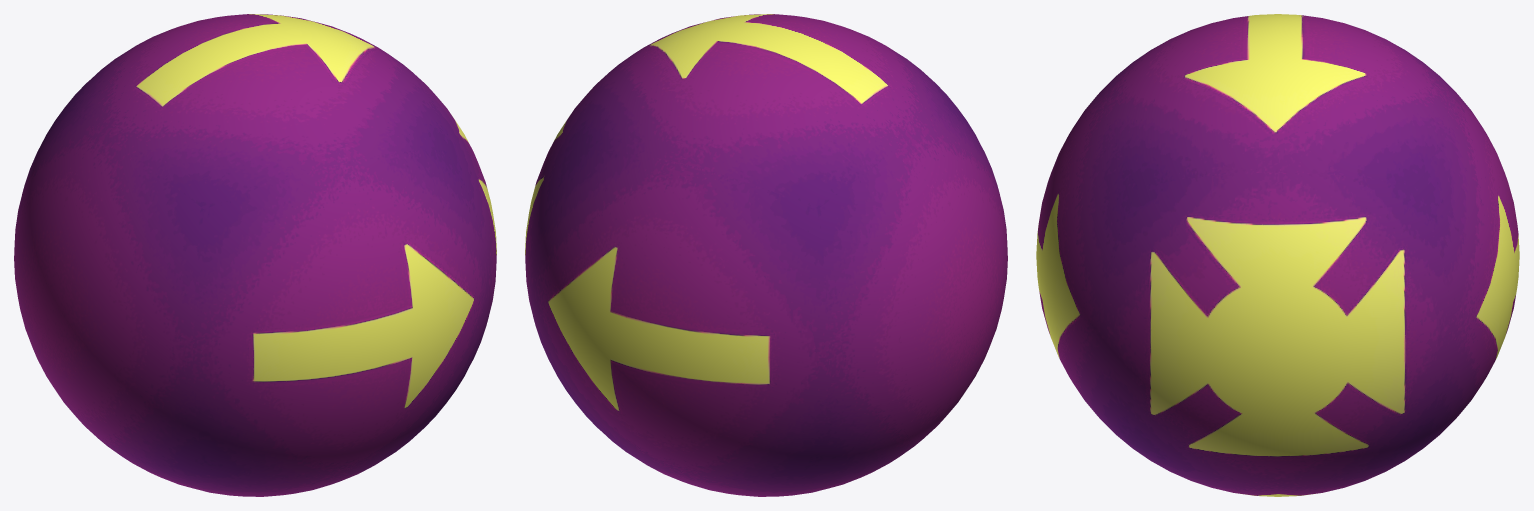
File: Gravity cube_ center.fbx
The picture shows the model from 3 angles, left to right: view 1: azimuth 30°, elevation 25°; view 2: azimuth 150°, elevation 25°; view 3: azimuth 270°, elevation 25°; orthographic projection.
Parts seen in each view (by area): view 1: Gravitation Orb; view 2: Gravitation Orb; view 3: Gravitation Orb.
Boxes of the visible parts, x1,y1,x2,y2 form: Gravitation Orb: (14, 14, 496, 496); Gravitation Orb: (525, 14, 1007, 496); Gravitation Orb: (1036, 14, 1519, 496).
Size of the model in its own units: 190 by 190 by 190.
